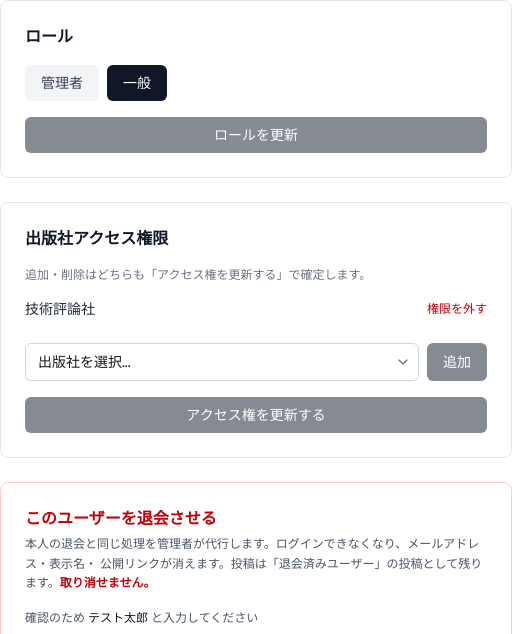
AdminUserEditor › ロールの更新 › サーバーが失敗を返したらエラーを表示し、「更新しました」は出さない
The width and height of the screenshot is (529, 634).
Click the button "管理者": (62, 83) left=25, top=65, right=99, bottom=101
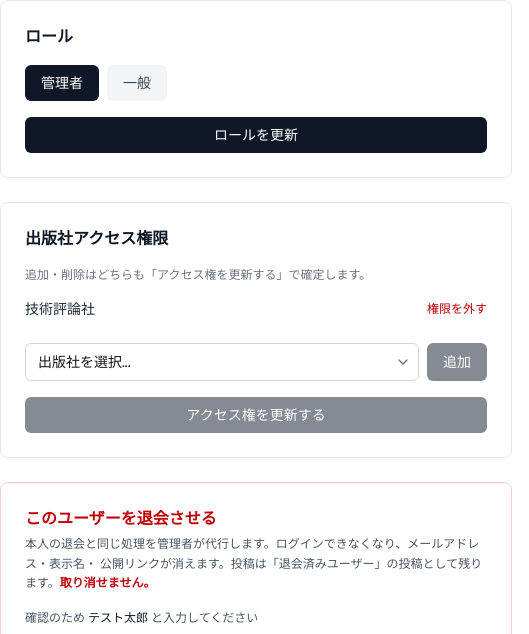
Click the button "ロールを更新": (256, 135) left=25, top=117, right=487, bottom=153
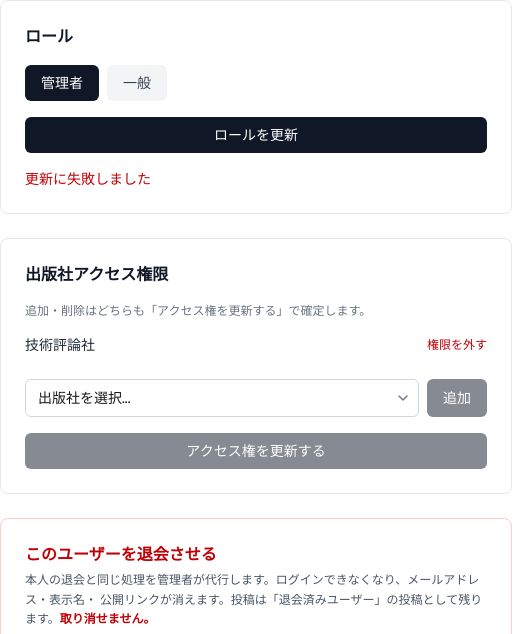
Expected: the text "更新に失敗しました" is shown, left=25, top=170, right=151, bottom=188
